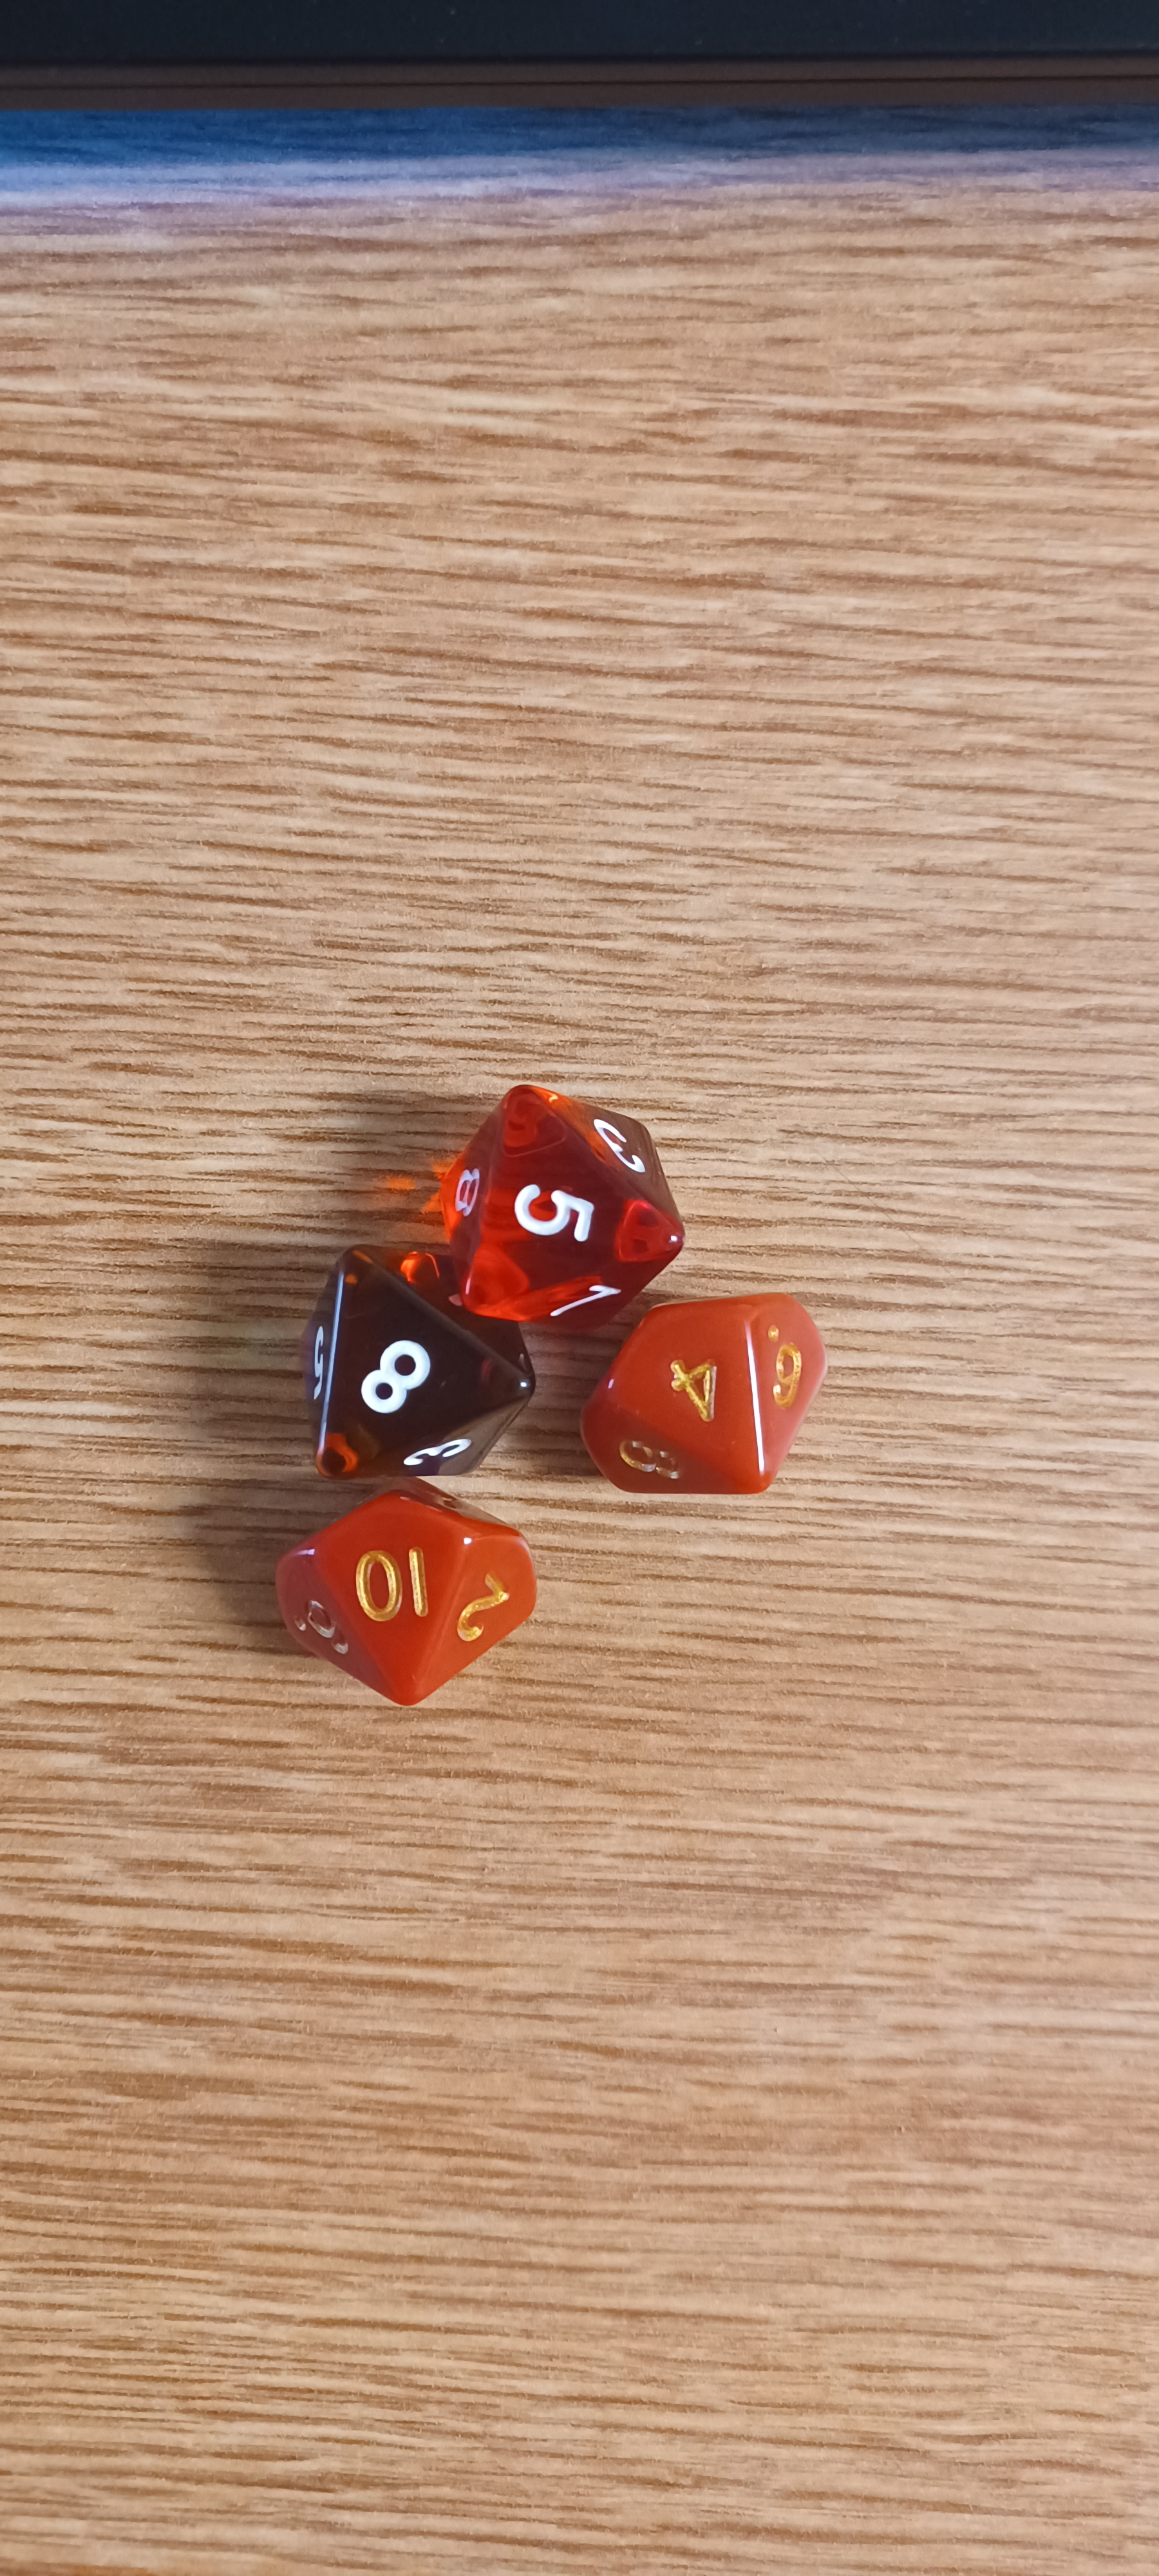eight: (276, 1234, 558, 1492)
five: (407, 1058, 693, 1332)
four: (553, 1265, 857, 1531)
ten: (240, 1475, 553, 1730)
